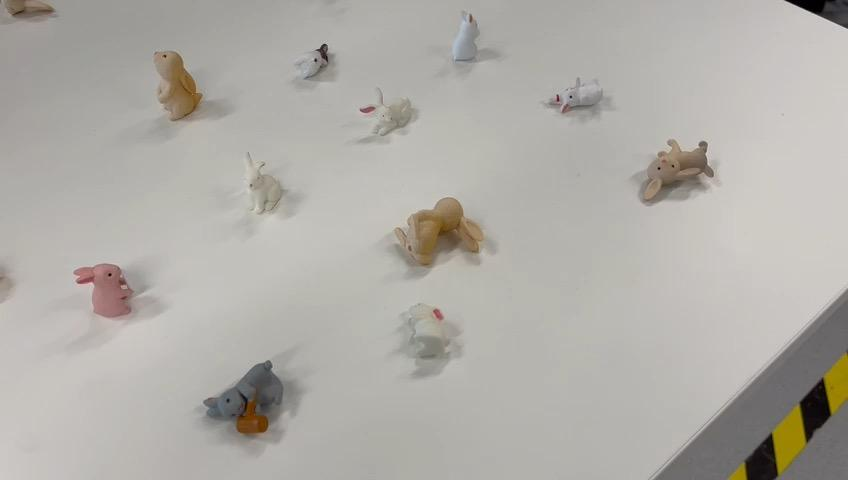pet: (201, 354, 293, 440), (390, 191, 486, 273), (639, 133, 719, 207), (146, 45, 206, 124), (398, 296, 459, 364), (68, 261, 139, 319), (237, 148, 289, 217), (357, 84, 417, 139), (542, 75, 609, 113), (287, 38, 333, 87), (450, 7, 484, 69)
